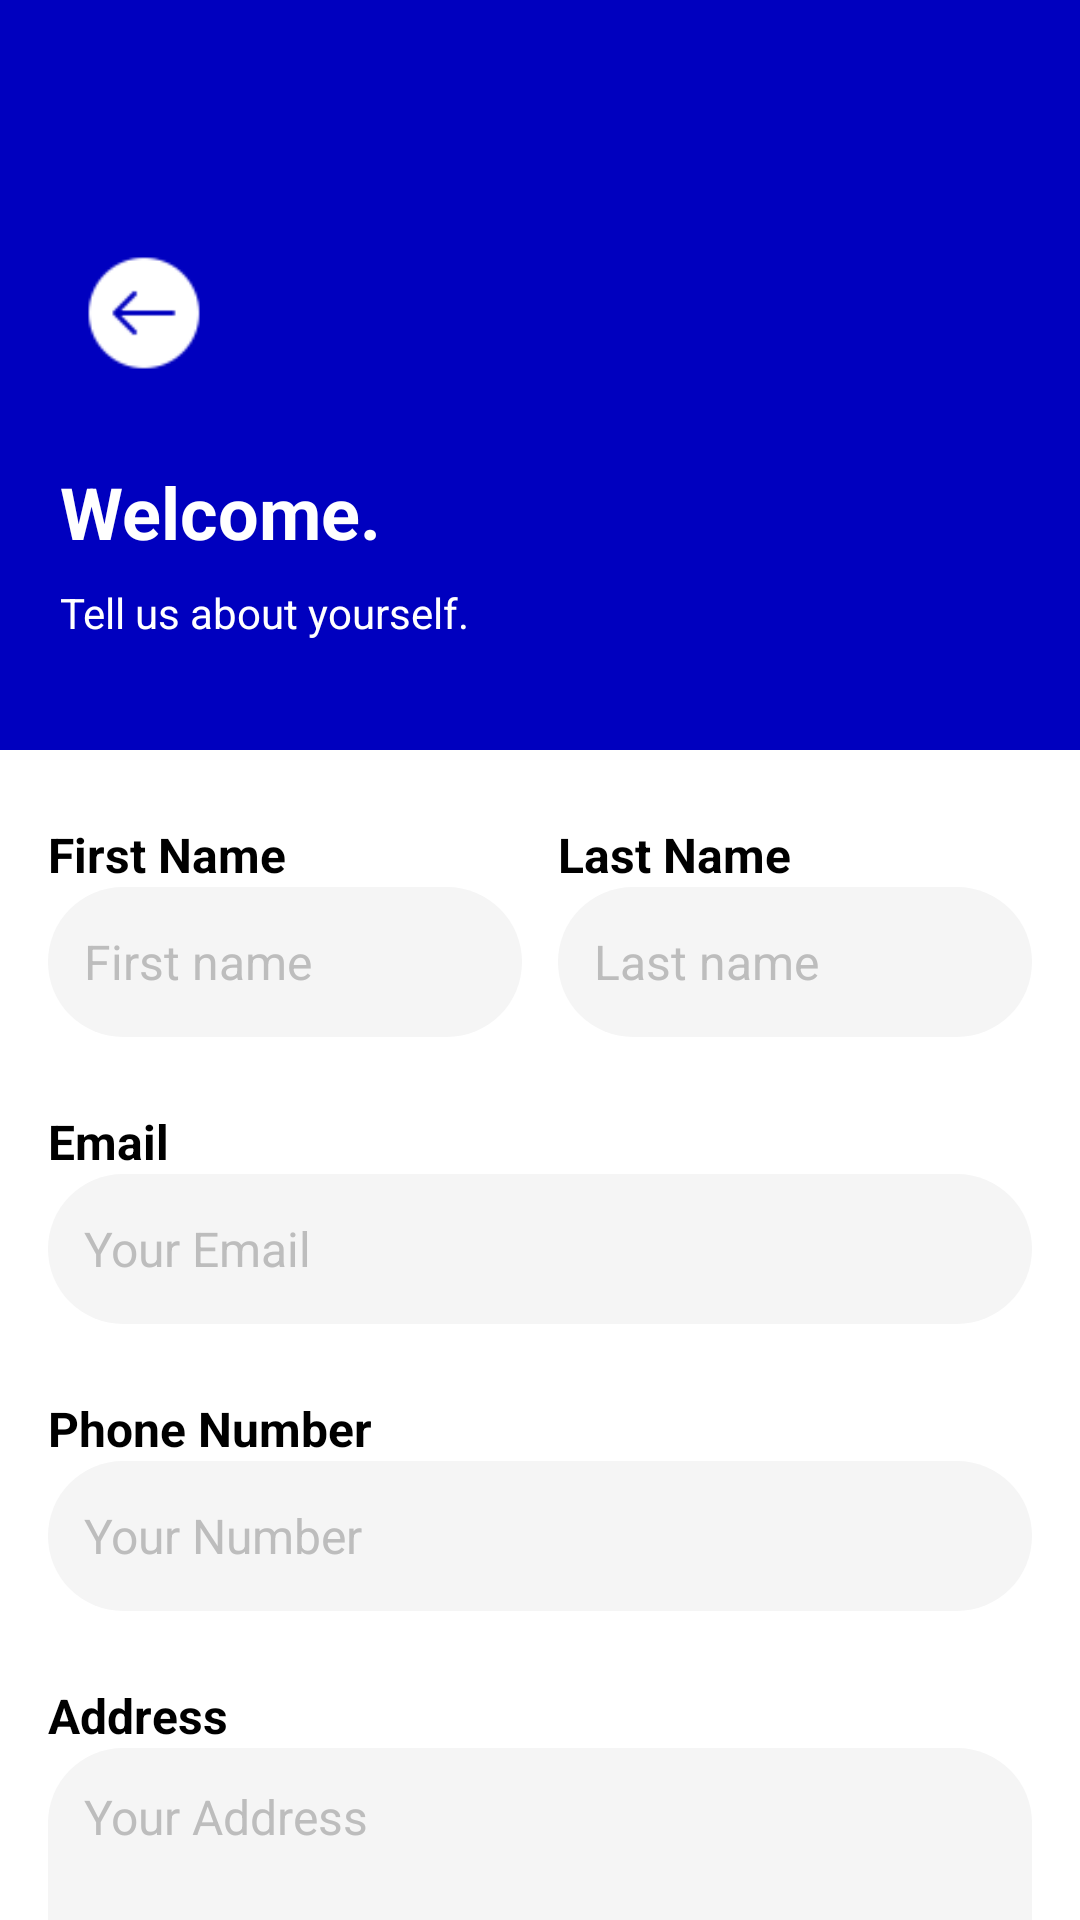

Named icons in this screenshot (1080px x 1920px) and their centers, (x,y):
Back: (144,313)
